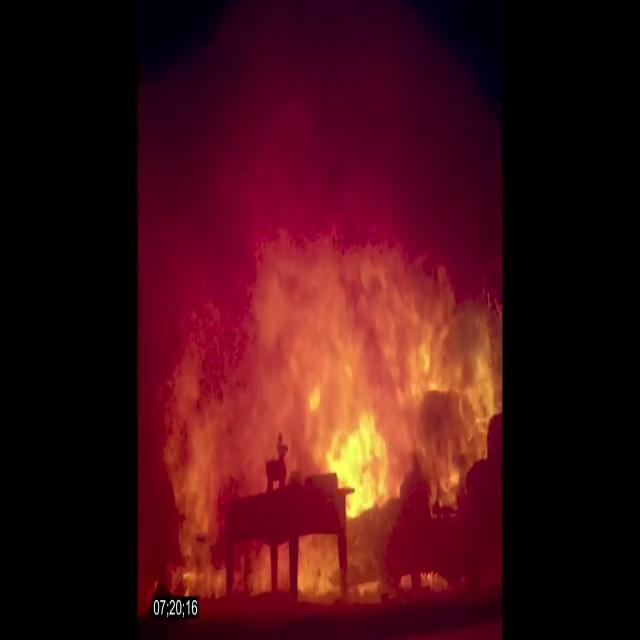Fire: (303, 246, 453, 474)
